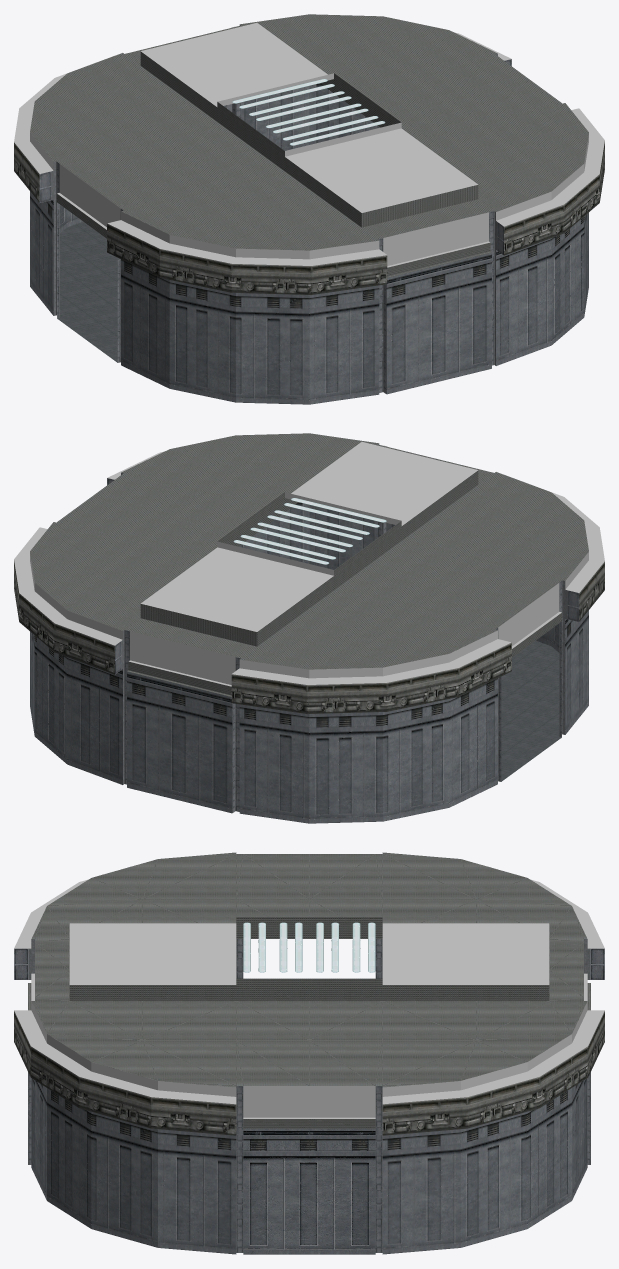
The model's file is poi_all_impl_bunker_small_outpost_s01_r14_storage2_mesh.fbx.
The picture shows the model from 3 angles, top to bottom: view 1: azimuth 30°, elevation 25°; view 2: azimuth 150°, elevation 25°; view 3: azimuth 270°, elevation 25°; orthographic projection. The views are drawn at different scales.
Parts seen in each view (by area): view 1: mesh_node; view 2: mesh_node; view 3: mesh_node.
Part boxes in pixels (<box>): mesh_node: <box>14,14,604,404</box>; mesh_node: <box>14,433,604,823</box>; mesh_node: <box>14,852,604,1254</box>.
Bounding box in the file's own units: 17 × 6 × 17.
